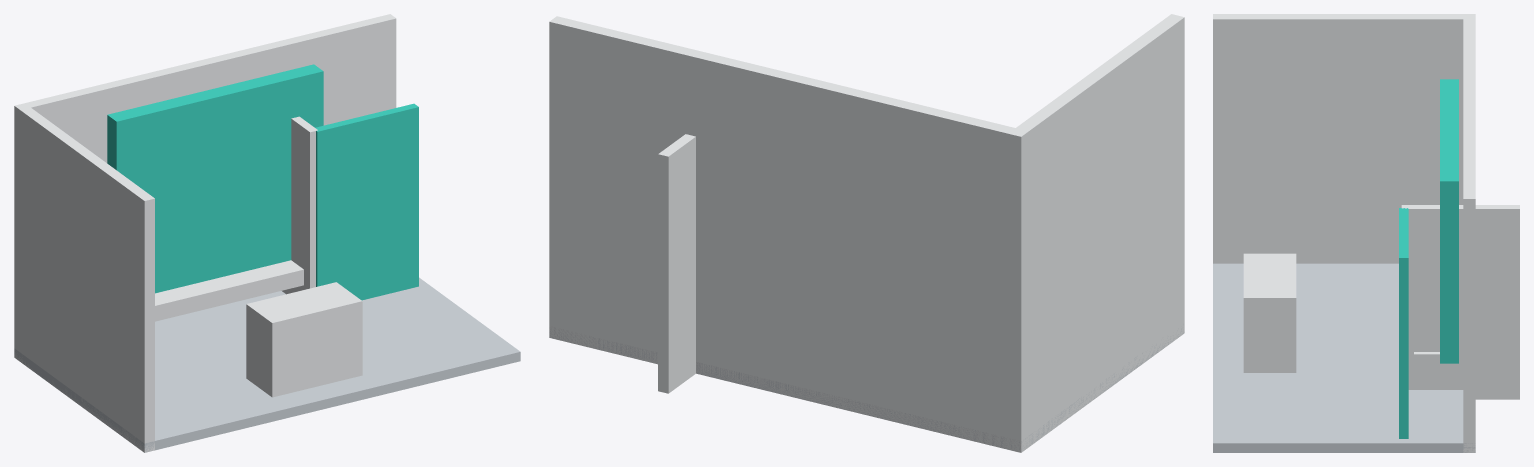
The picture shows the model from 3 angles, left to right: view 1: azimuth 30°, elevation 25°; view 2: azimuth 150°, elevation 25°; view 3: azimuth 270°, elevation 25°; orthographic projection. The views are drawn at different scales.
Parts seen in each view (by area): view 1: Exhibition Booth Concept; view 2: Exhibition Booth Concept; view 3: Exhibition Booth Concept.
Boxes of the visible parts, x1,y1,x2,y2 form: Exhibition Booth Concept: [14, 14, 520, 452]; Exhibition Booth Concept: [549, 14, 1184, 452]; Exhibition Booth Concept: [1213, 14, 1519, 452].
Bounding box in the file's own units: 5 × 3.2 × 3.51.
